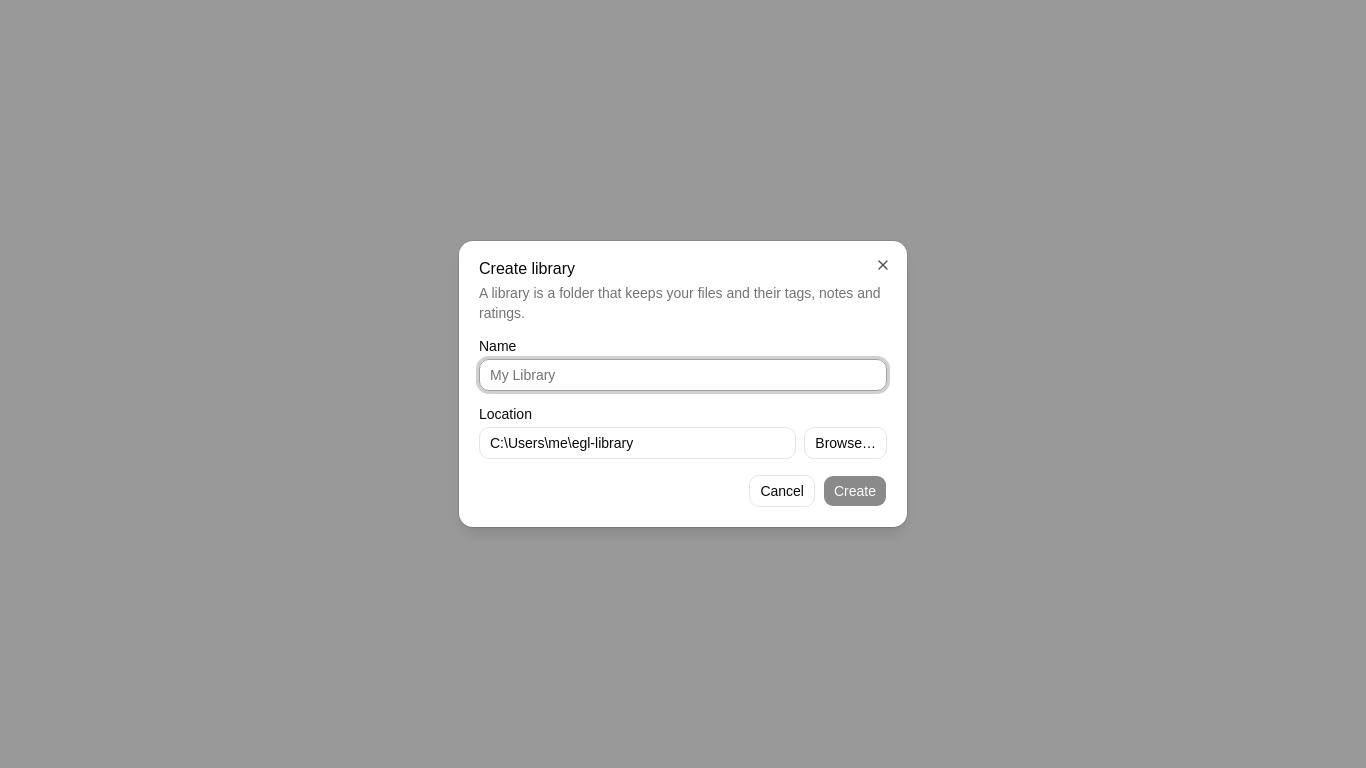
Test: CreateLibraryDialog › takes the location from the folder picker
Expected: the field showing "C:\\Users\\me\\egl-library" is shown, x1=479 y1=427 x2=796 y2=459
Click the button "Browse…": (846, 443) x1=804 y1=427 x2=887 y2=459
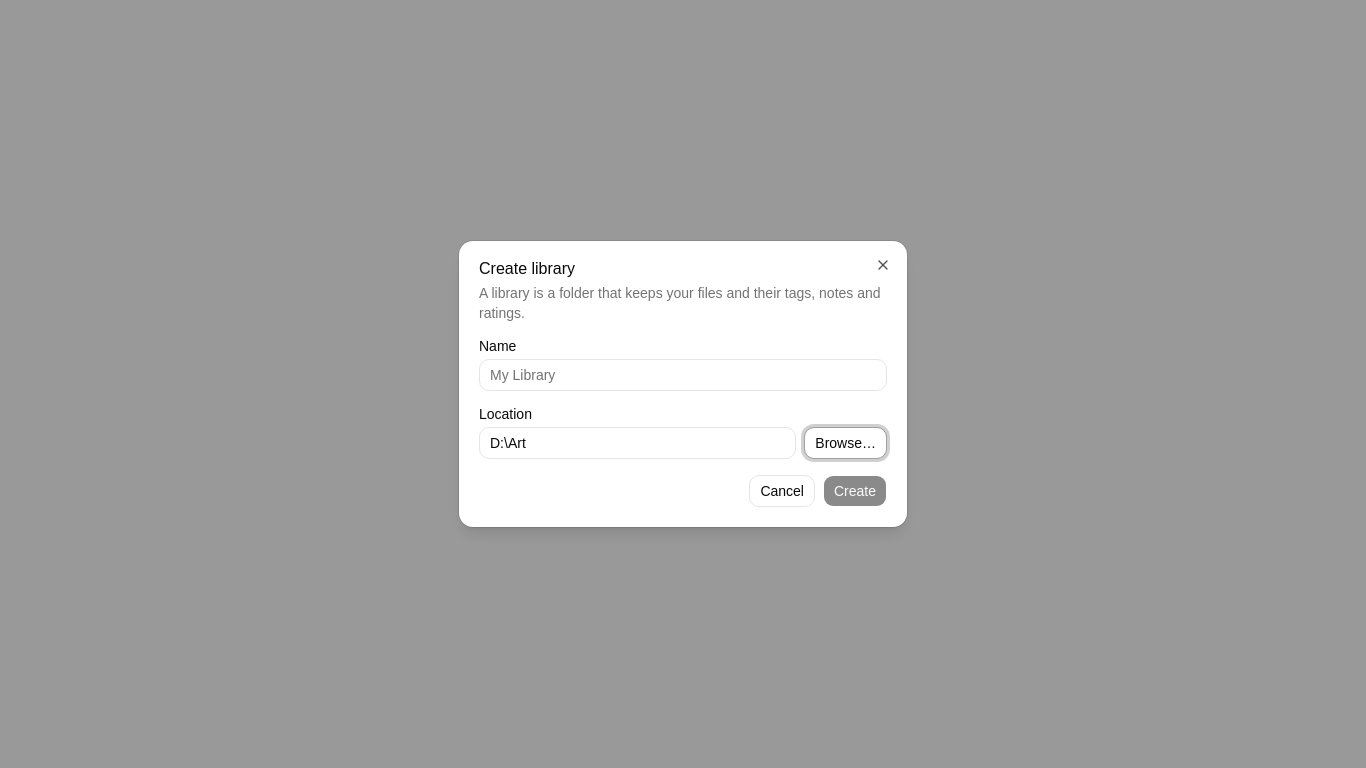
Now the field showing "D:\\Art" is shown, box x1=479 y1=427 x2=796 y2=459
